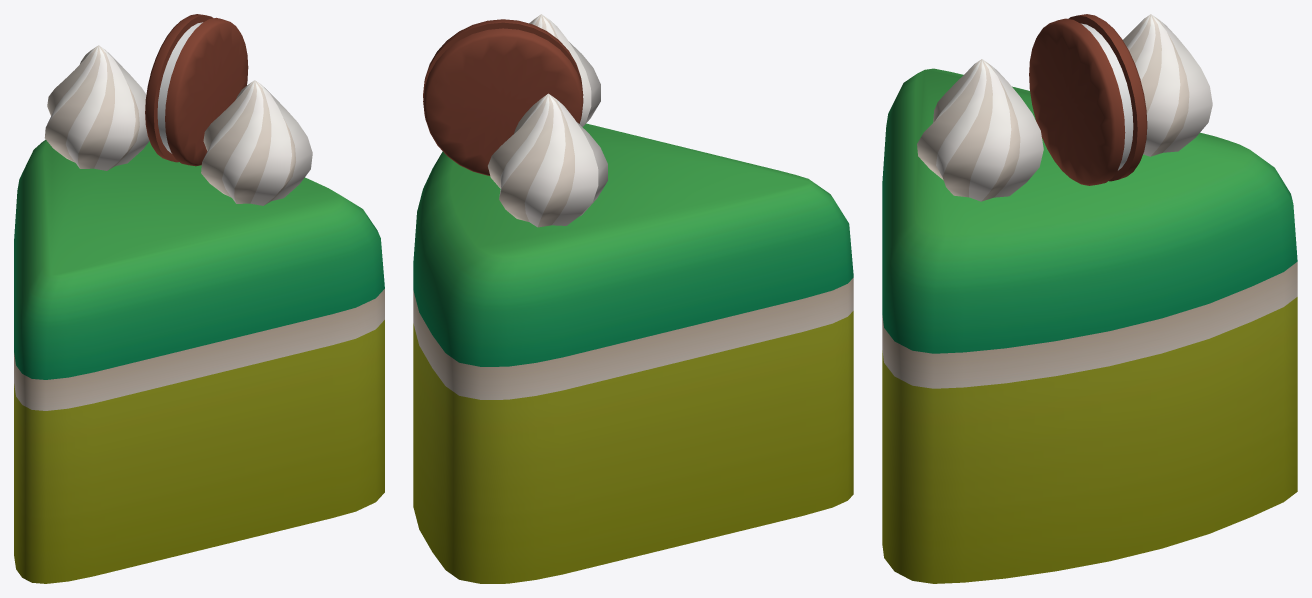
File: cake10_slice.FBX
The picture shows the model from 3 angles, left to right: view 1: azimuth 30°, elevation 25°; view 2: azimuth 150°, elevation 25°; view 3: azimuth 270°, elevation 25°; orthographic projection. The views are drawn at different scales.
Parts seen in each view (by area): view 1: cake10_slice; view 2: cake10_slice; view 3: cake10_slice.
Boxes of the visible parts, left/top/right/bottom form: cake10_slice: left=14, top=14, right=384, bottom=583; cake10_slice: left=413, top=14, right=853, bottom=583; cake10_slice: left=882, top=14, right=1297, bottom=583.
Size of the model in its own units: 0.00904 by 0.0104 by 0.00788.
